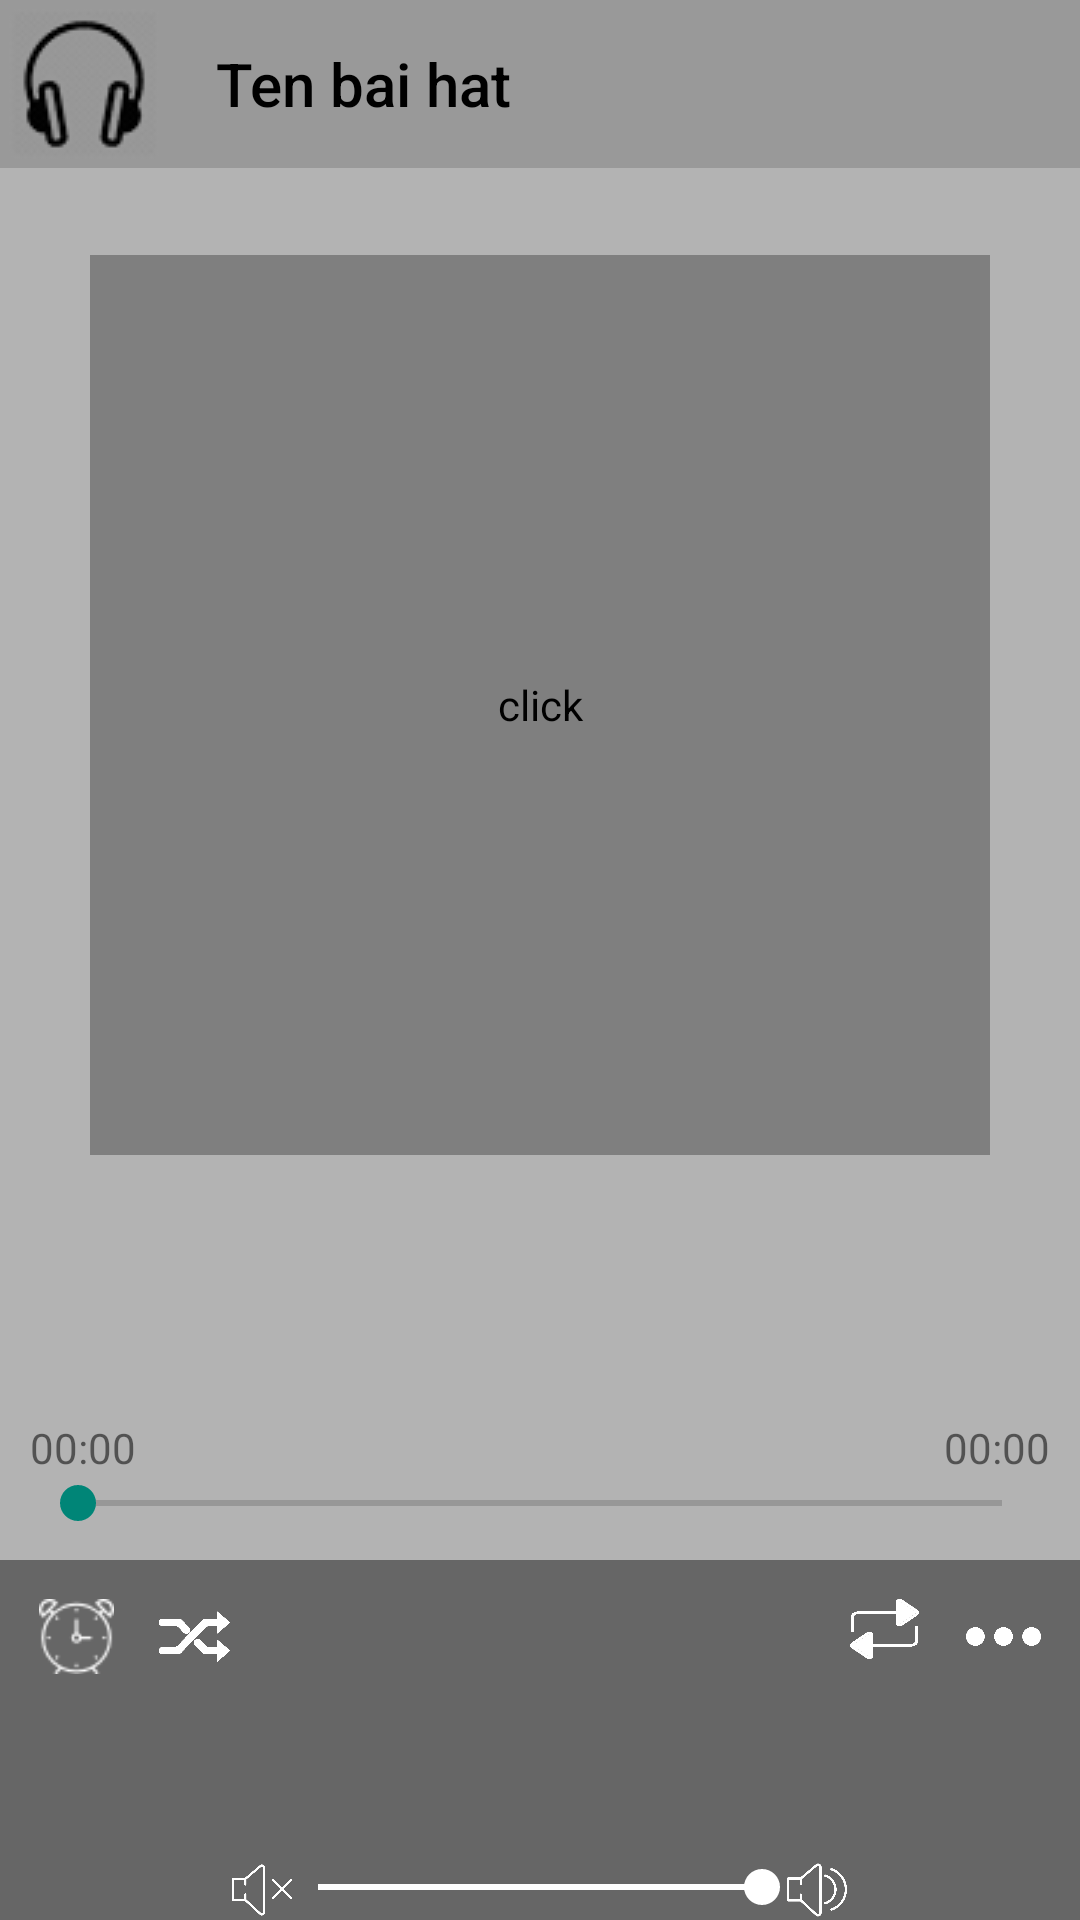

Screen size 1080×1920. Icon name, then its box in pixels as (x1, y1, x2, y2):
alarmclock: (39, 1599, 114, 1674)
ellipsis: (966, 1627, 1041, 1646)
muted: (232, 1864, 292, 1916)
random: (159, 1611, 230, 1662)
repeatall: (850, 1599, 919, 1659)
speaker: (787, 1863, 847, 1917)
